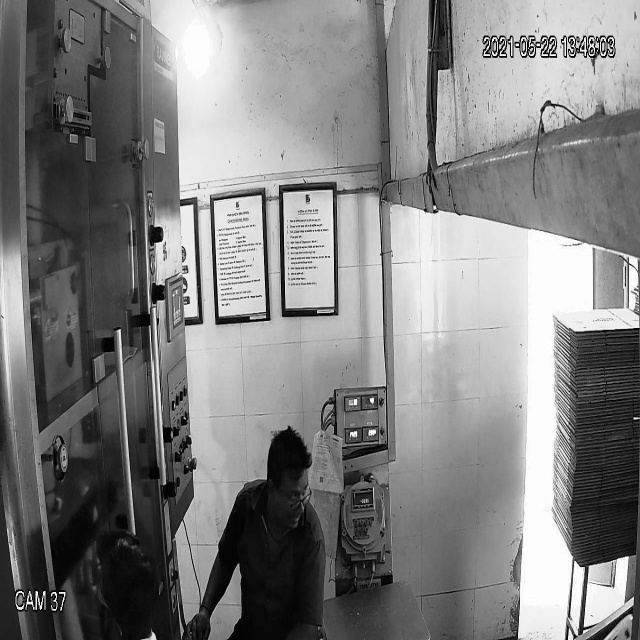Gafas: (269, 478, 313, 512)
